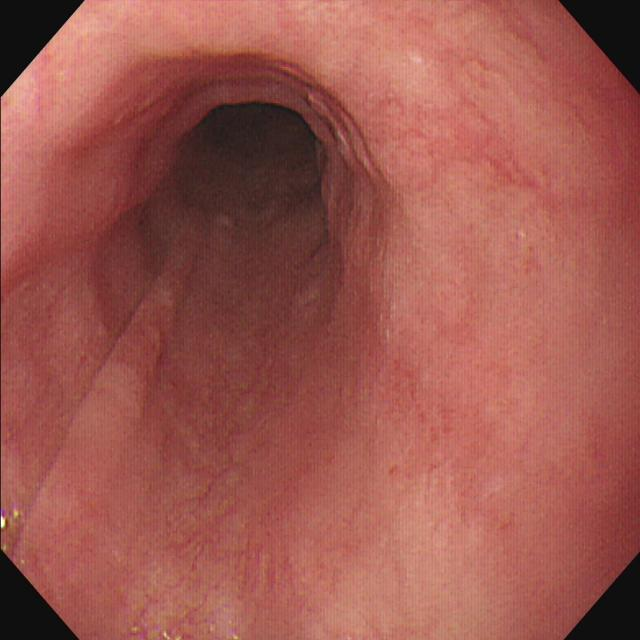E: (166, 81, 327, 222)
